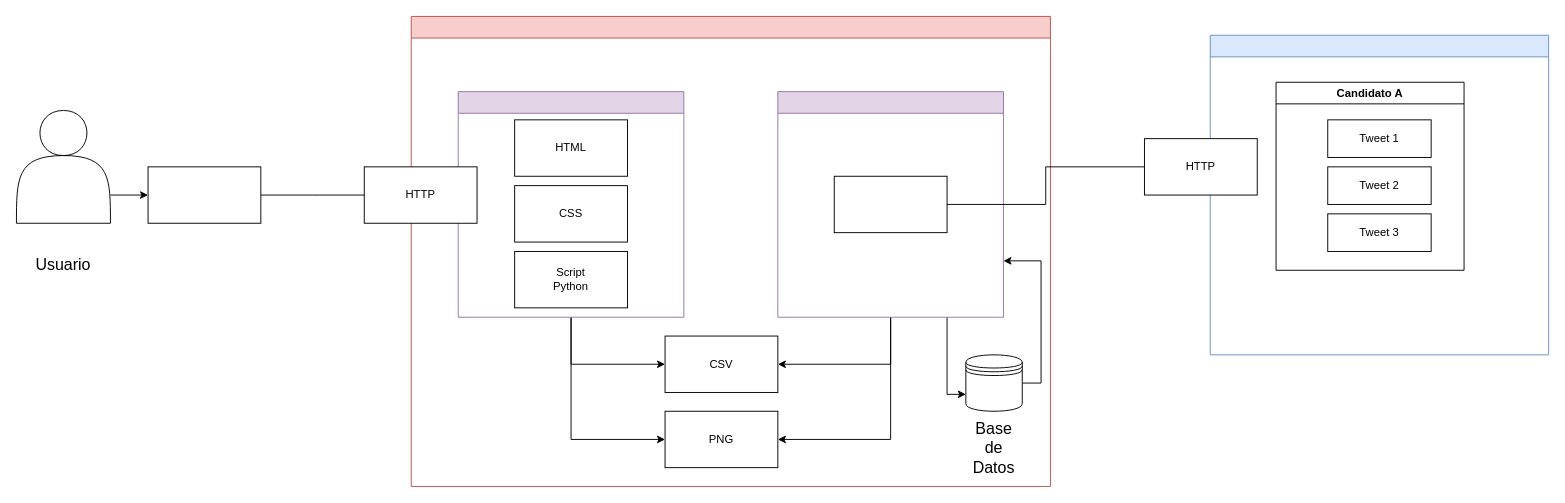
Some shapes in this 1565 by 503 pixel diagram are drawn without their labels. Each missing label, with the box of its shape:
Airflow: (777, 91, 1003, 317)
Flask: (457, 91, 684, 317)
Navegador Web: (147, 166, 261, 223)
Scripts Python: (833, 175, 947, 233)
Servidor en la Nube: (410, 16, 1050, 486)
Twitter: (1209, 34, 1549, 355)
